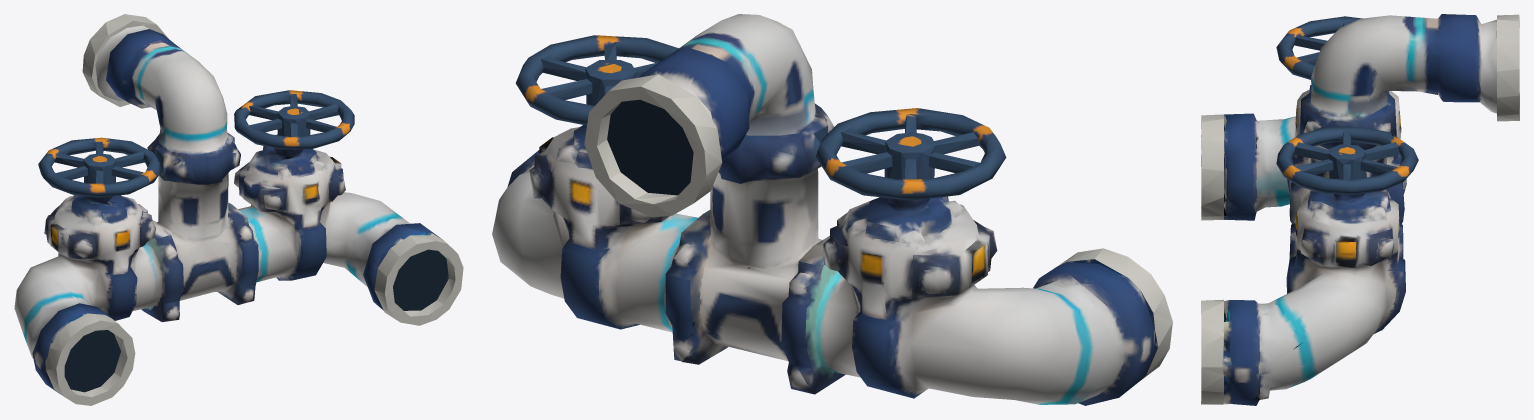
The model's file is cryo-valve-manifold_LOD1.glb.
3 renders of one model, left to right at view 1: azimuth 30°, elevation 25°; view 2: azimuth 150°, elevation 25°; view 3: azimuth 270°, elevation 25°, orthographic. The views are drawn at different scales.
Parts seen in each view (by area): view 1: cryo-valve-manifold_LOD1; view 2: cryo-valve-manifold_LOD1; view 3: cryo-valve-manifold_LOD1.
Part boxes in pixels (left/top/right/bottom): cryo-valve-manifold_LOD1: left=14, top=14, right=463, bottom=405; cryo-valve-manifold_LOD1: left=492, top=14, right=1172, bottom=405; cryo-valve-manifold_LOD1: left=1201, top=14, right=1519, bottom=405.
Size of the model in its own units: 2.31 by 1.35 by 1.35.
1 material, 1 textured.
